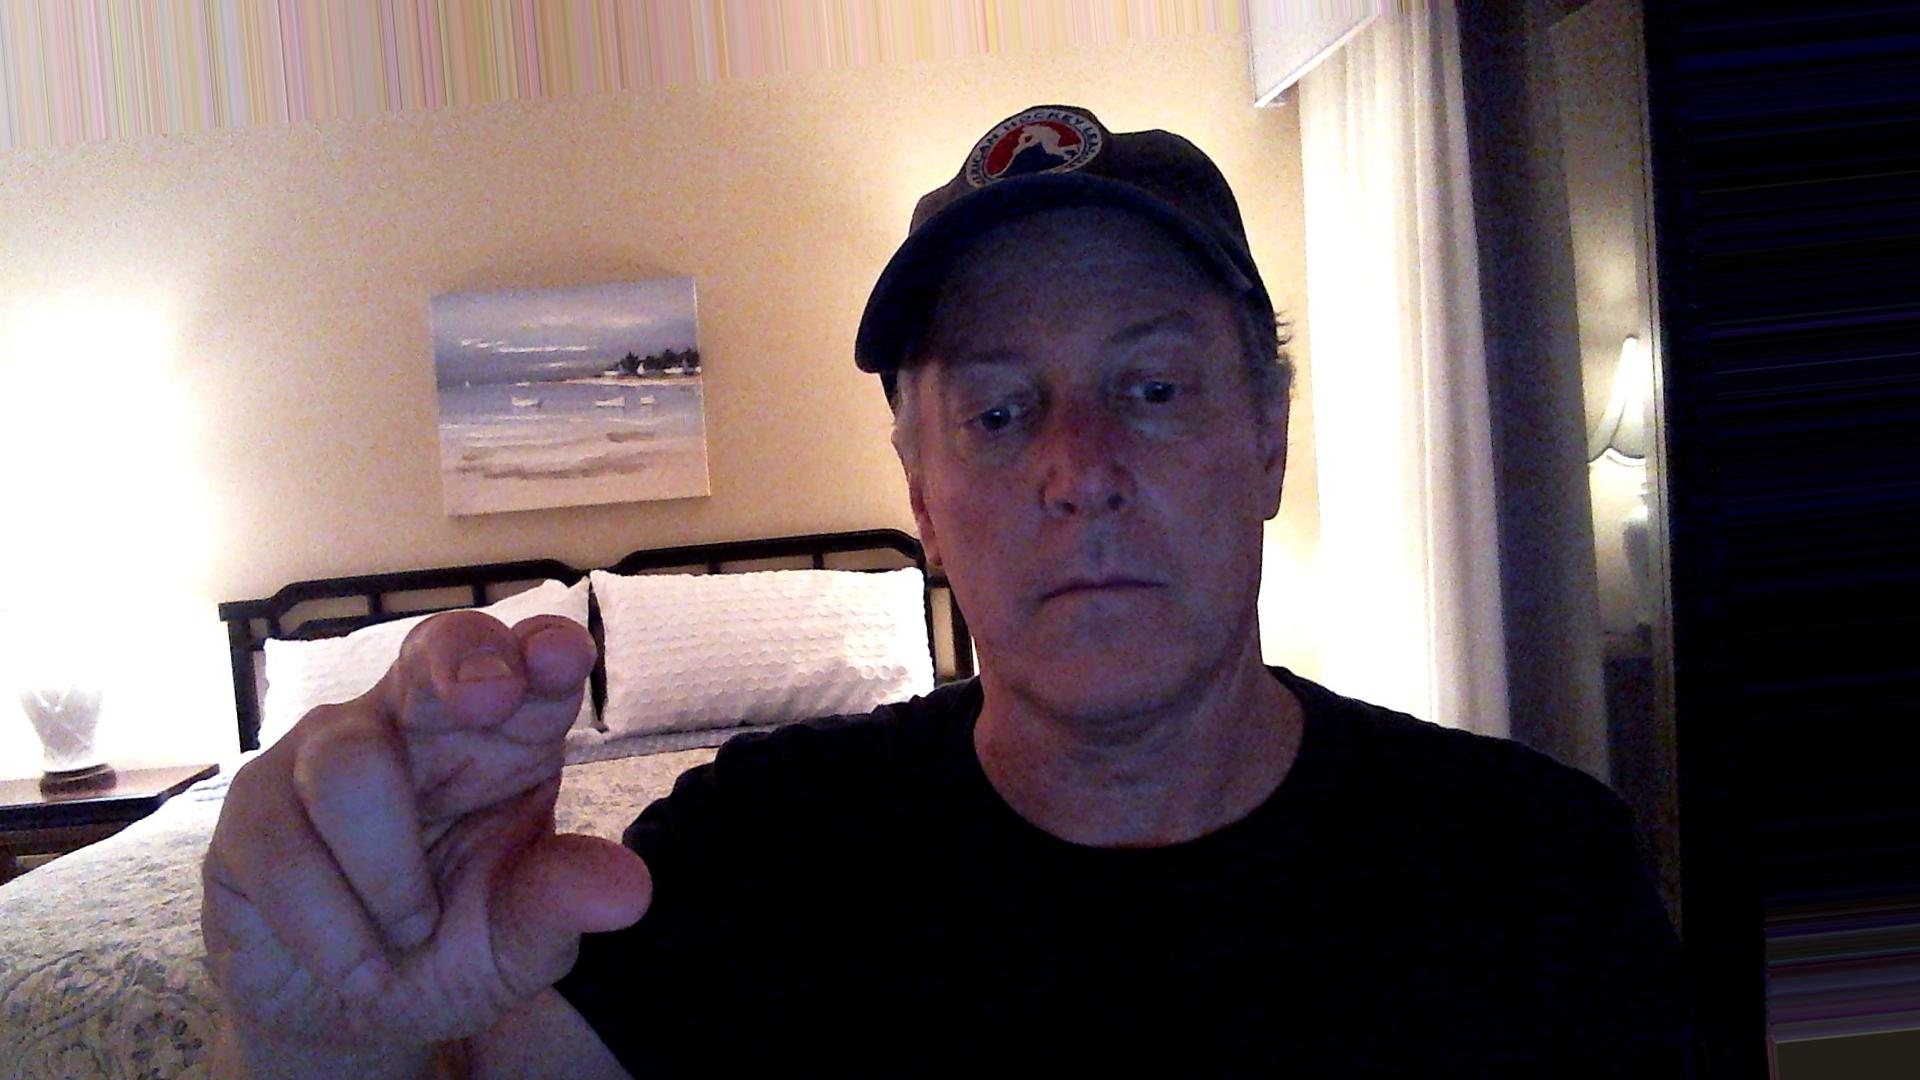No: (169, 588, 723, 1056)
